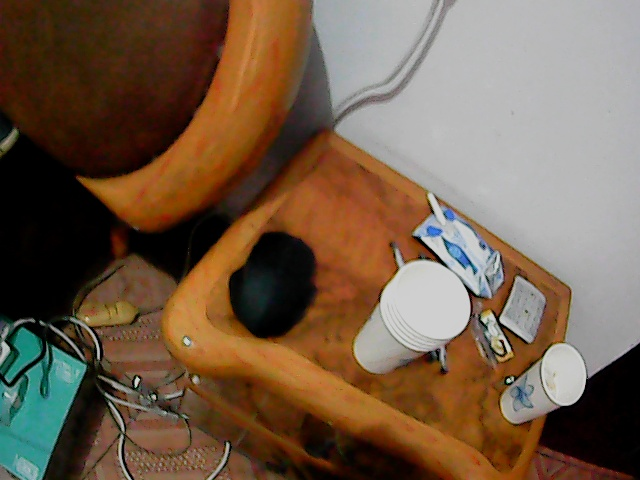cup: (352, 256, 473, 378)
mouse: (225, 226, 317, 338)
